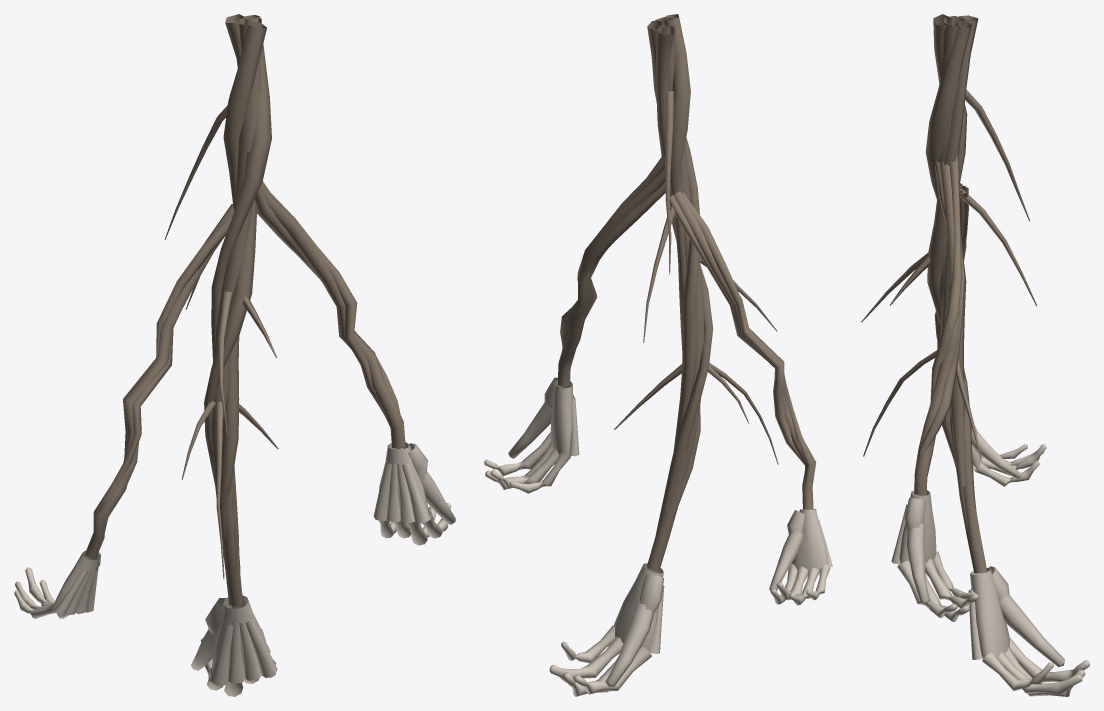
Rendered from HandRoot1.fbx.
The picture shows the model from 3 angles, left to right: view 1: azimuth 30°, elevation 25°; view 2: azimuth 150°, elevation 25°; view 3: azimuth 270°, elevation 25°; orthographic projection. The views are drawn at different scales.
Parts seen in each view (by area): view 1: HandRoot1; view 2: HandRoot1; view 3: HandRoot1.
Part boxes in pixels (left/top/right/bottom): HandRoot1: left=14, top=14, right=455, bottom=696; HandRoot1: left=484, top=14, right=832, bottom=696; HandRoot1: left=861, top=14, right=1089, bottom=696.
Size of the model in its own units: 0.9186 by 1.57 by 0.4898.
